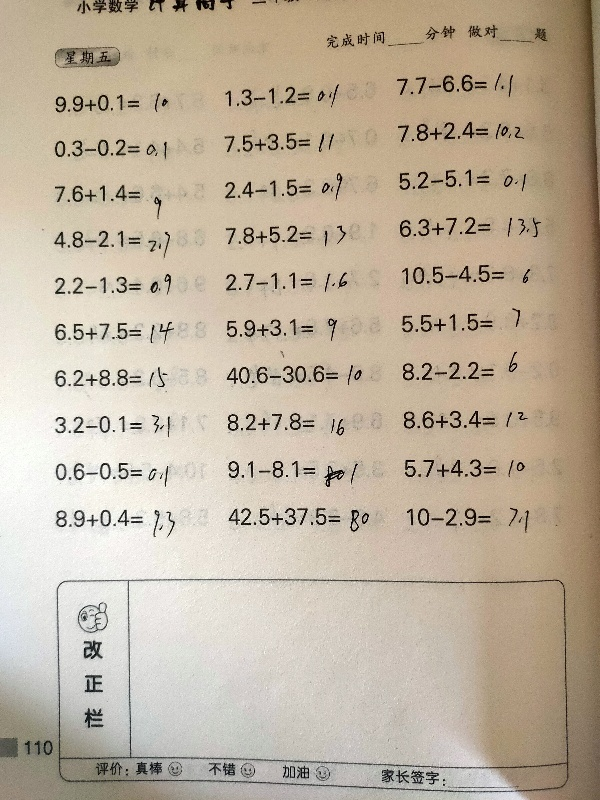equation: (223, 499, 380, 545), (227, 449, 380, 496), (401, 500, 548, 540), (387, 64, 523, 107), (384, 113, 533, 152), (212, 127, 352, 165), (396, 212, 548, 247), (395, 303, 528, 343), (395, 403, 541, 439), (45, 315, 183, 353), (217, 79, 356, 115), (44, 268, 179, 305), (220, 311, 349, 349), (222, 170, 362, 205), (392, 163, 536, 197), (48, 177, 168, 217), (223, 408, 381, 438), (49, 228, 181, 263), (217, 360, 364, 391), (400, 353, 529, 388), (392, 259, 532, 291), (217, 268, 352, 301), (49, 364, 185, 396), (51, 505, 178, 539), (221, 221, 363, 251), (399, 453, 541, 481), (100, 630, 130, 754), (51, 409, 173, 439), (51, 457, 172, 487), (51, 90, 186, 116), (50, 134, 170, 161)
